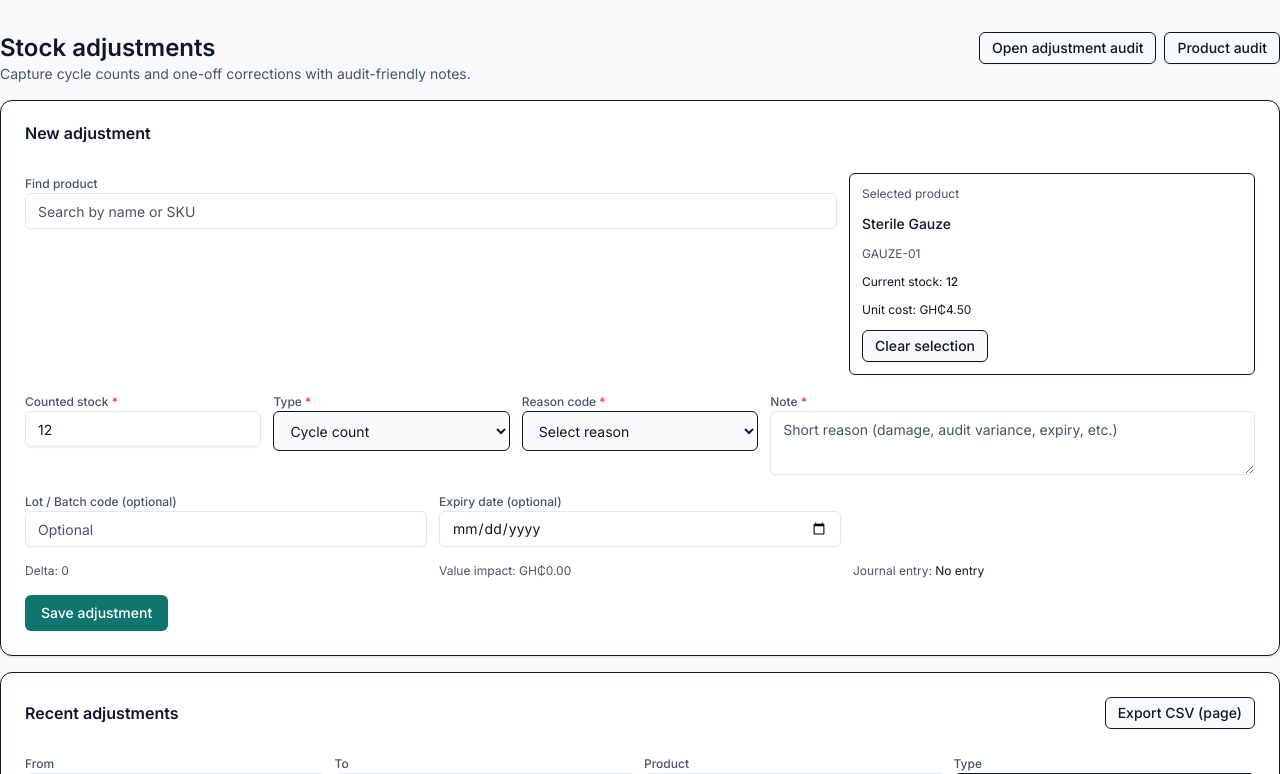
Test: StockAdjustmentsPage › updates the selected product stock after a confirmed adjustment
Check: the link "Product audit" is shown, box [1164,32,1279,64]
Replace the text in the number field labelled "Counted stock *" with "15" at (143, 429), box [25,411,261,447]
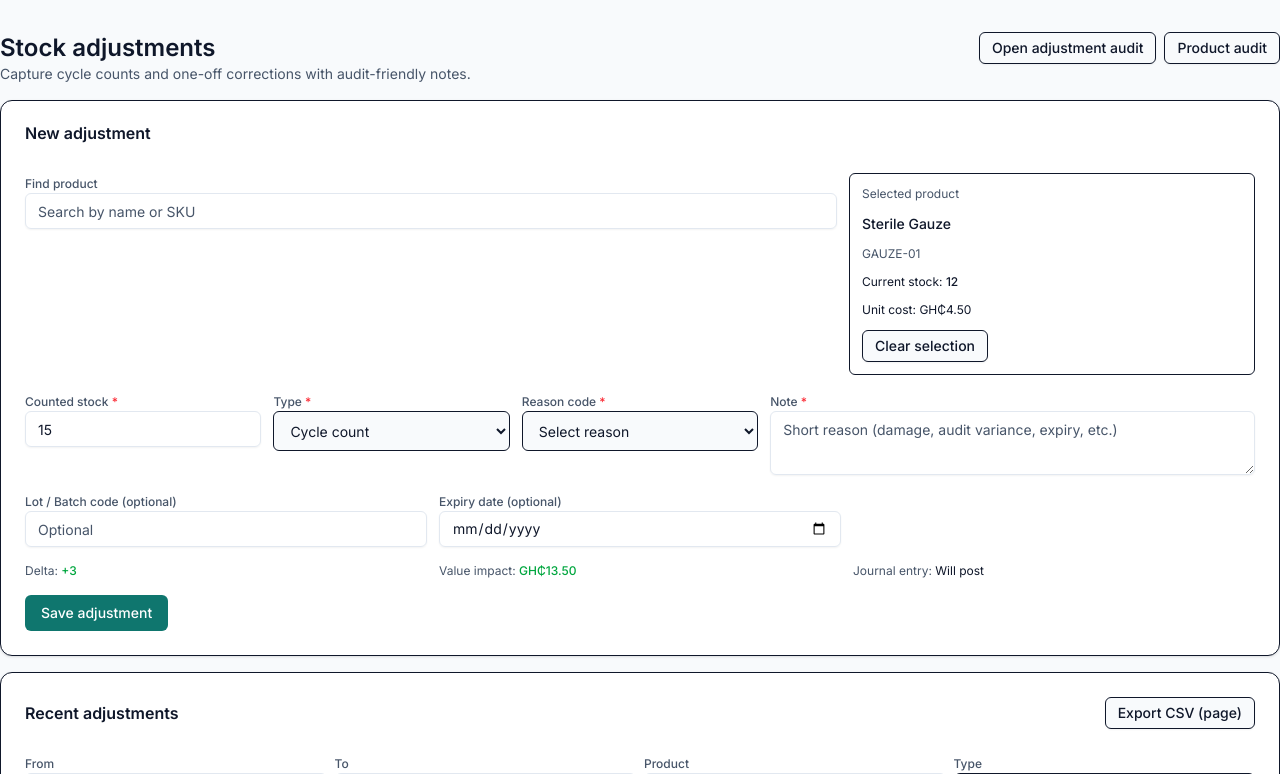
Select "Count variance" in the dropdown labelled "Reason code *" at (640, 431), box [522,411,758,451]
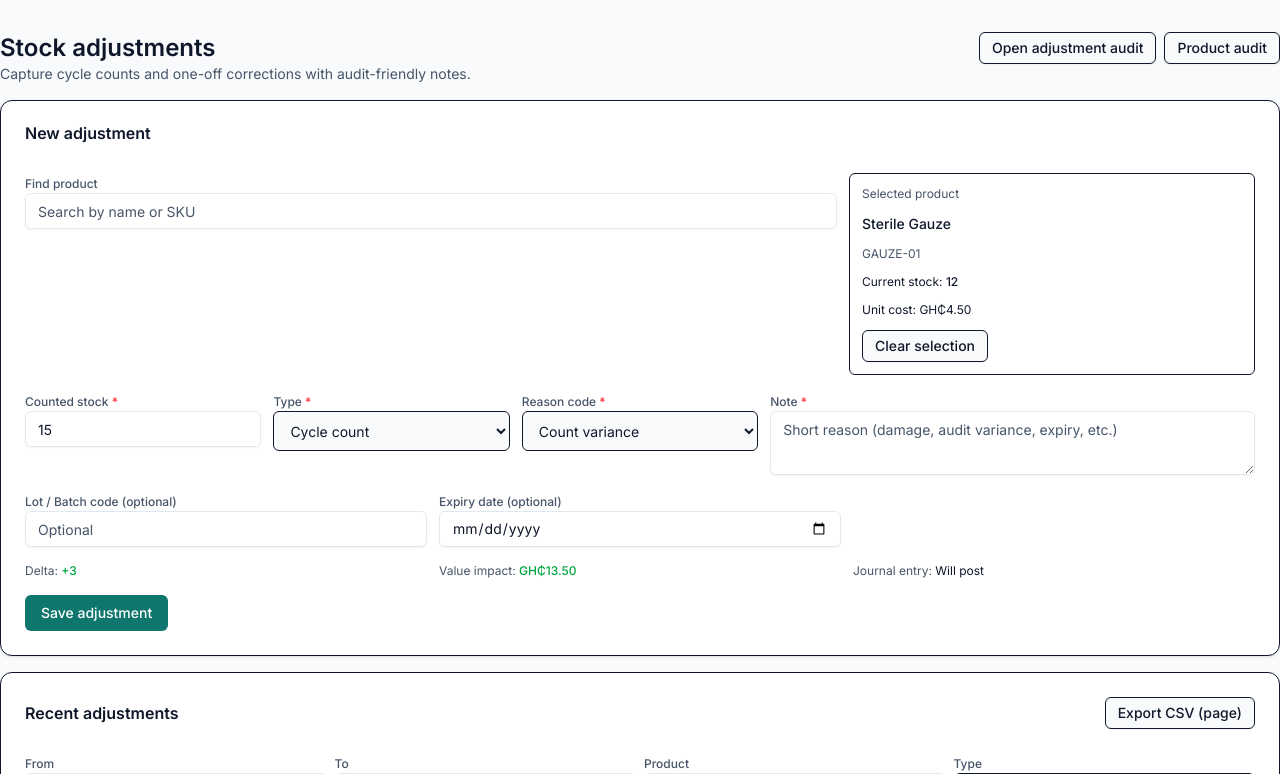
Type "Shelf recount" into the text box labelled "Note *" at (1013, 443), box [770,411,1255,475]
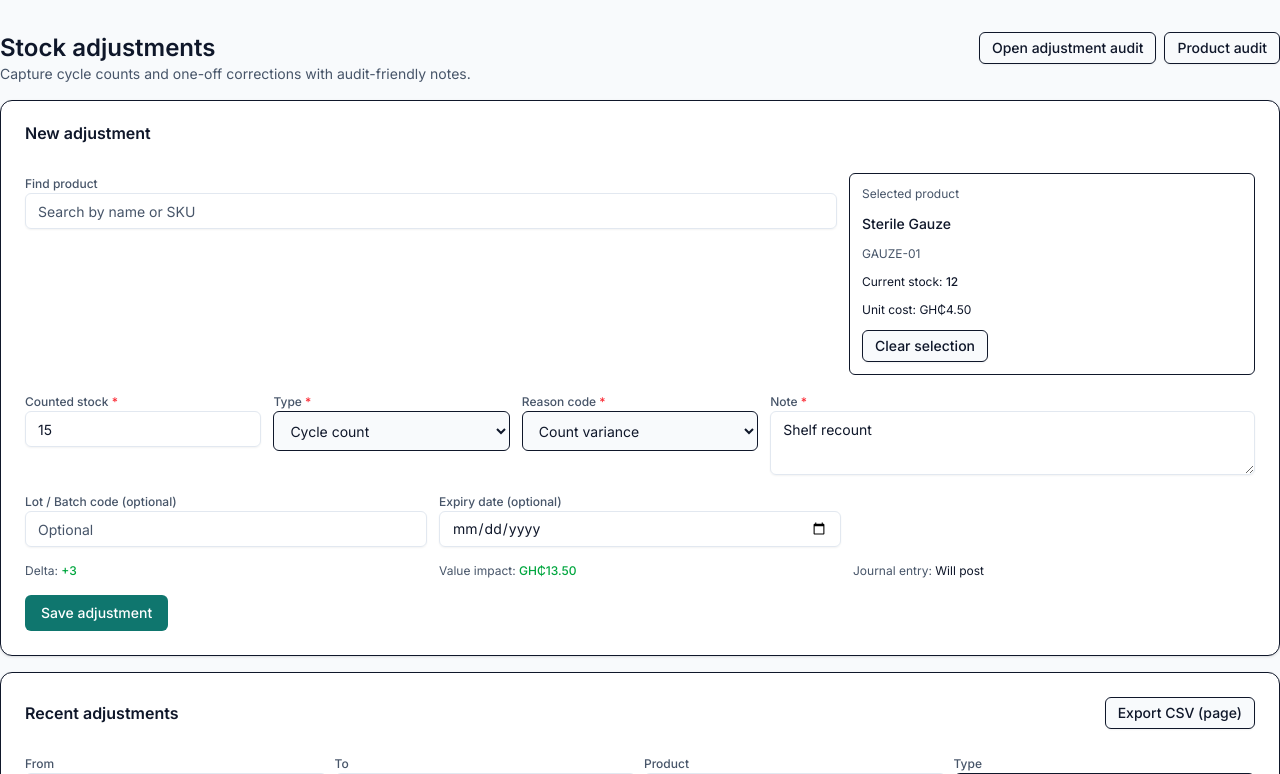
Click the button "Save adjustment" at (97, 613), box [25,595,168,631]
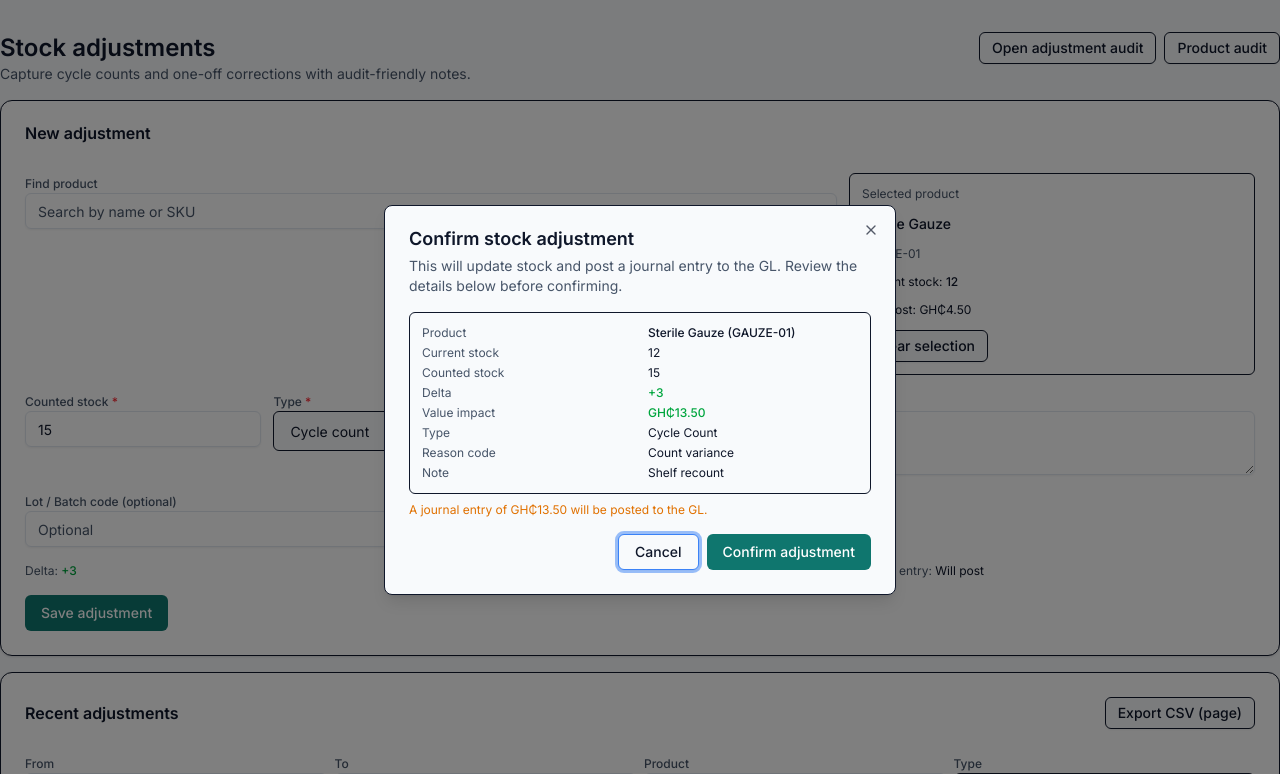
Check: the dialog shows "Confirm stock adjustment", box [409,228,634,249]
Click the button "Confirm adjustment" at (789, 552), box [706,534,871,570]
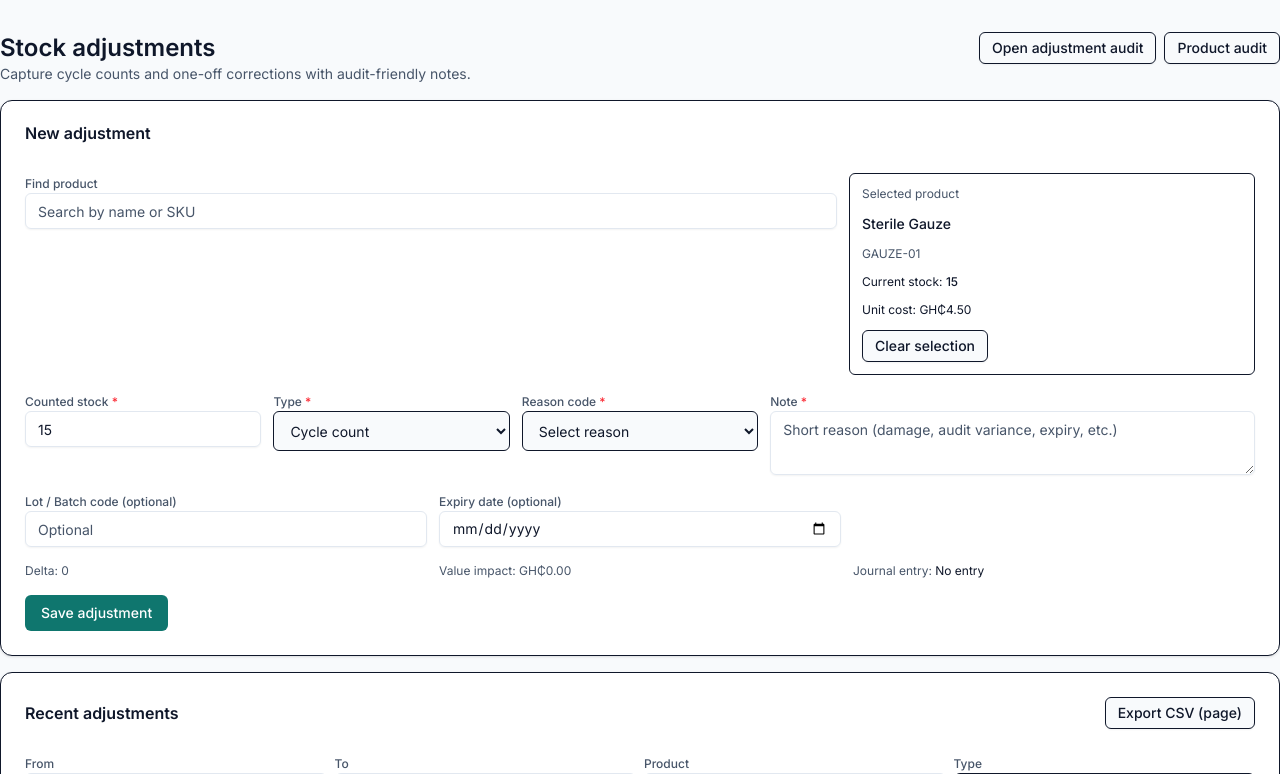
Check: the dialog is gone
Check: the text "Current stock: 15" is shown, box [862,274,958,289]
